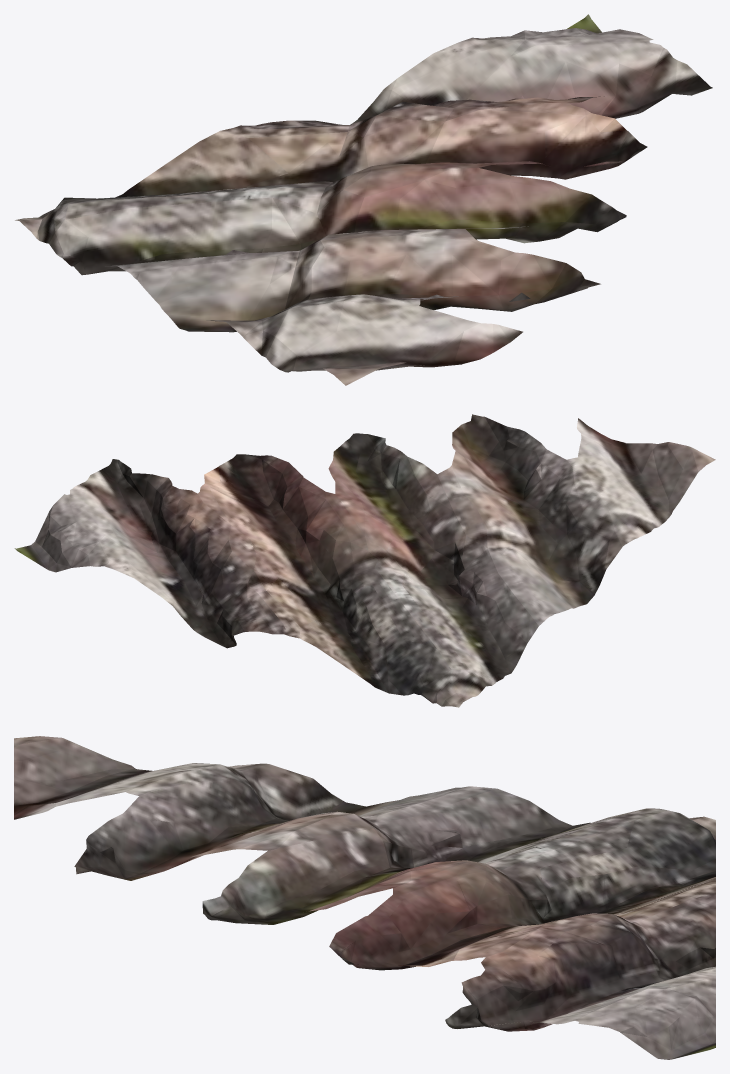
3 views of the same model, one above another, from view 1: azimuth 30°, elevation 25°; view 2: azimuth 150°, elevation 25°; view 3: azimuth 270°, elevation 25° (orthographic). The views are drawn at different scales.
Bounding box in the file's own units: 0.8373 × 0.13 × 0.8374.
2 materials, 2 textured.
